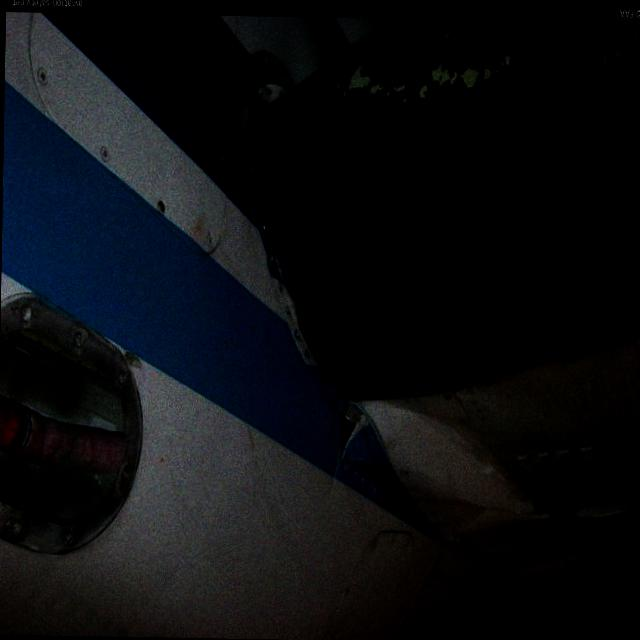crack: (332, 400, 374, 478)
